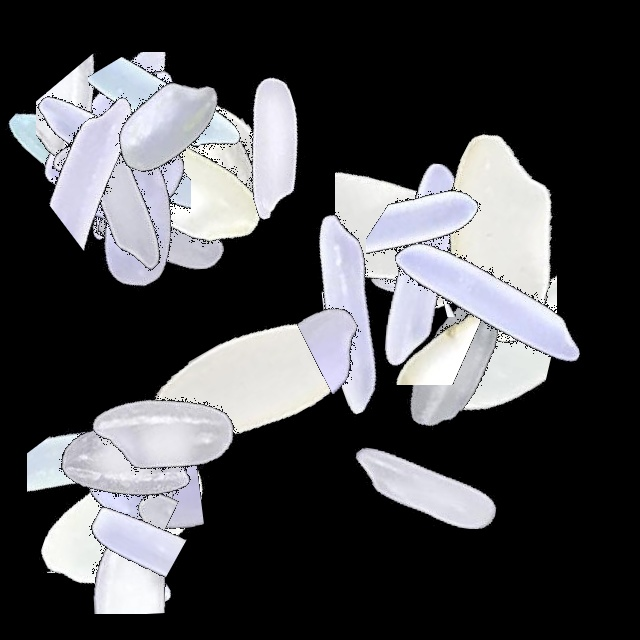Broken: (88, 0, 262, 250), (0, 52, 250, 223), (19, 52, 269, 222), (0, 83, 250, 251), (27, 369, 192, 619), (154, 0, 319, 250), (307, 366, 557, 529), (335, 87, 491, 337), (0, 422, 250, 571), (410, 198, 557, 448), (47, 82, 191, 332), (0, 476, 250, 614), (36, 7, 169, 257), (29, 139, 279, 269), (366, 132, 489, 382), (244, 272, 494, 394), (0, 474, 250, 588), (0, 462, 250, 573), (291, 277, 541, 385), (80, 390, 186, 640), (359, 221, 609, 317), (403, 173, 495, 423), (0, 464, 250, 553), (244, 288, 494, 374), (105, 40, 189, 290), (114, 117, 194, 367)
Full: (128, 255, 378, 505), (49, 19, 299, 269), (308, 125, 558, 375), (380, 150, 630, 400), (0, 43, 250, 293), (0, 23, 250, 273), (0, 390, 250, 640), (296, 138, 546, 388), (4, 25, 254, 275), (374, 117, 624, 367), (0, 349, 250, 599), (0, 15, 250, 265), (37, 110, 287, 360), (50, 54, 300, 304), (329, 241, 579, 491), (0, 55, 250, 305), (16, 100, 266, 350), (0, 75, 250, 325), (0, 340, 250, 590), (225, 185, 475, 435), (42, 0, 292, 250), (148, 20, 398, 270), (361, 180, 611, 430), (41, 304, 291, 554)
